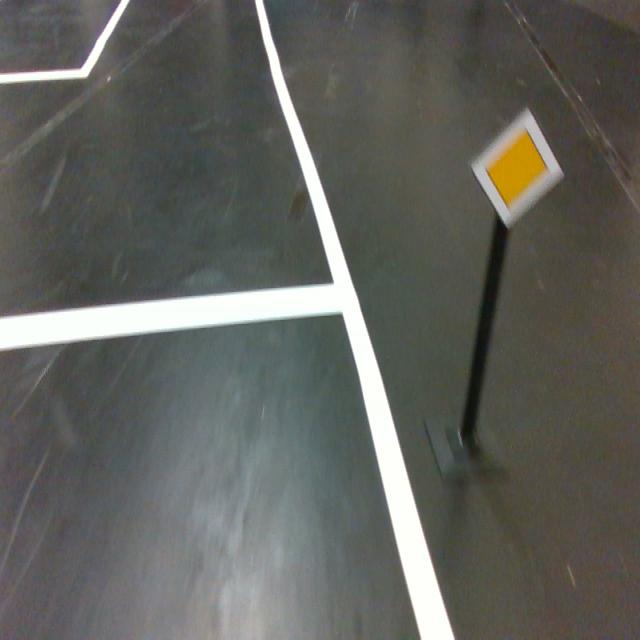priority-sign: (469, 105, 566, 232)
